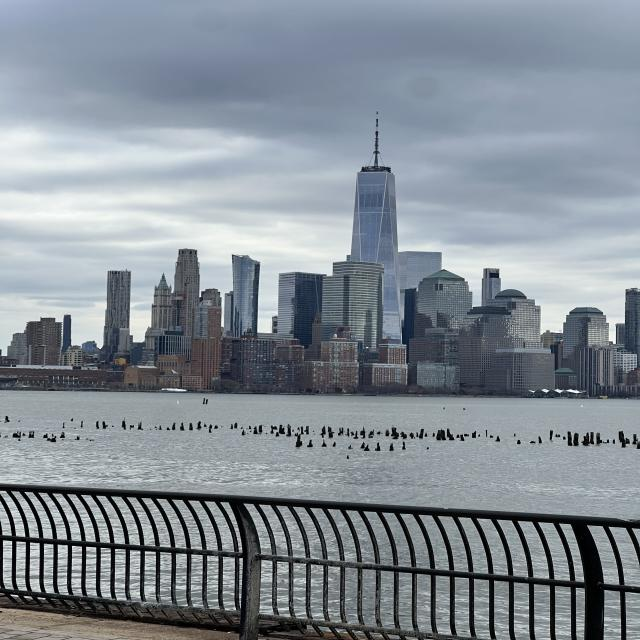WTC: (350, 112, 400, 262)
